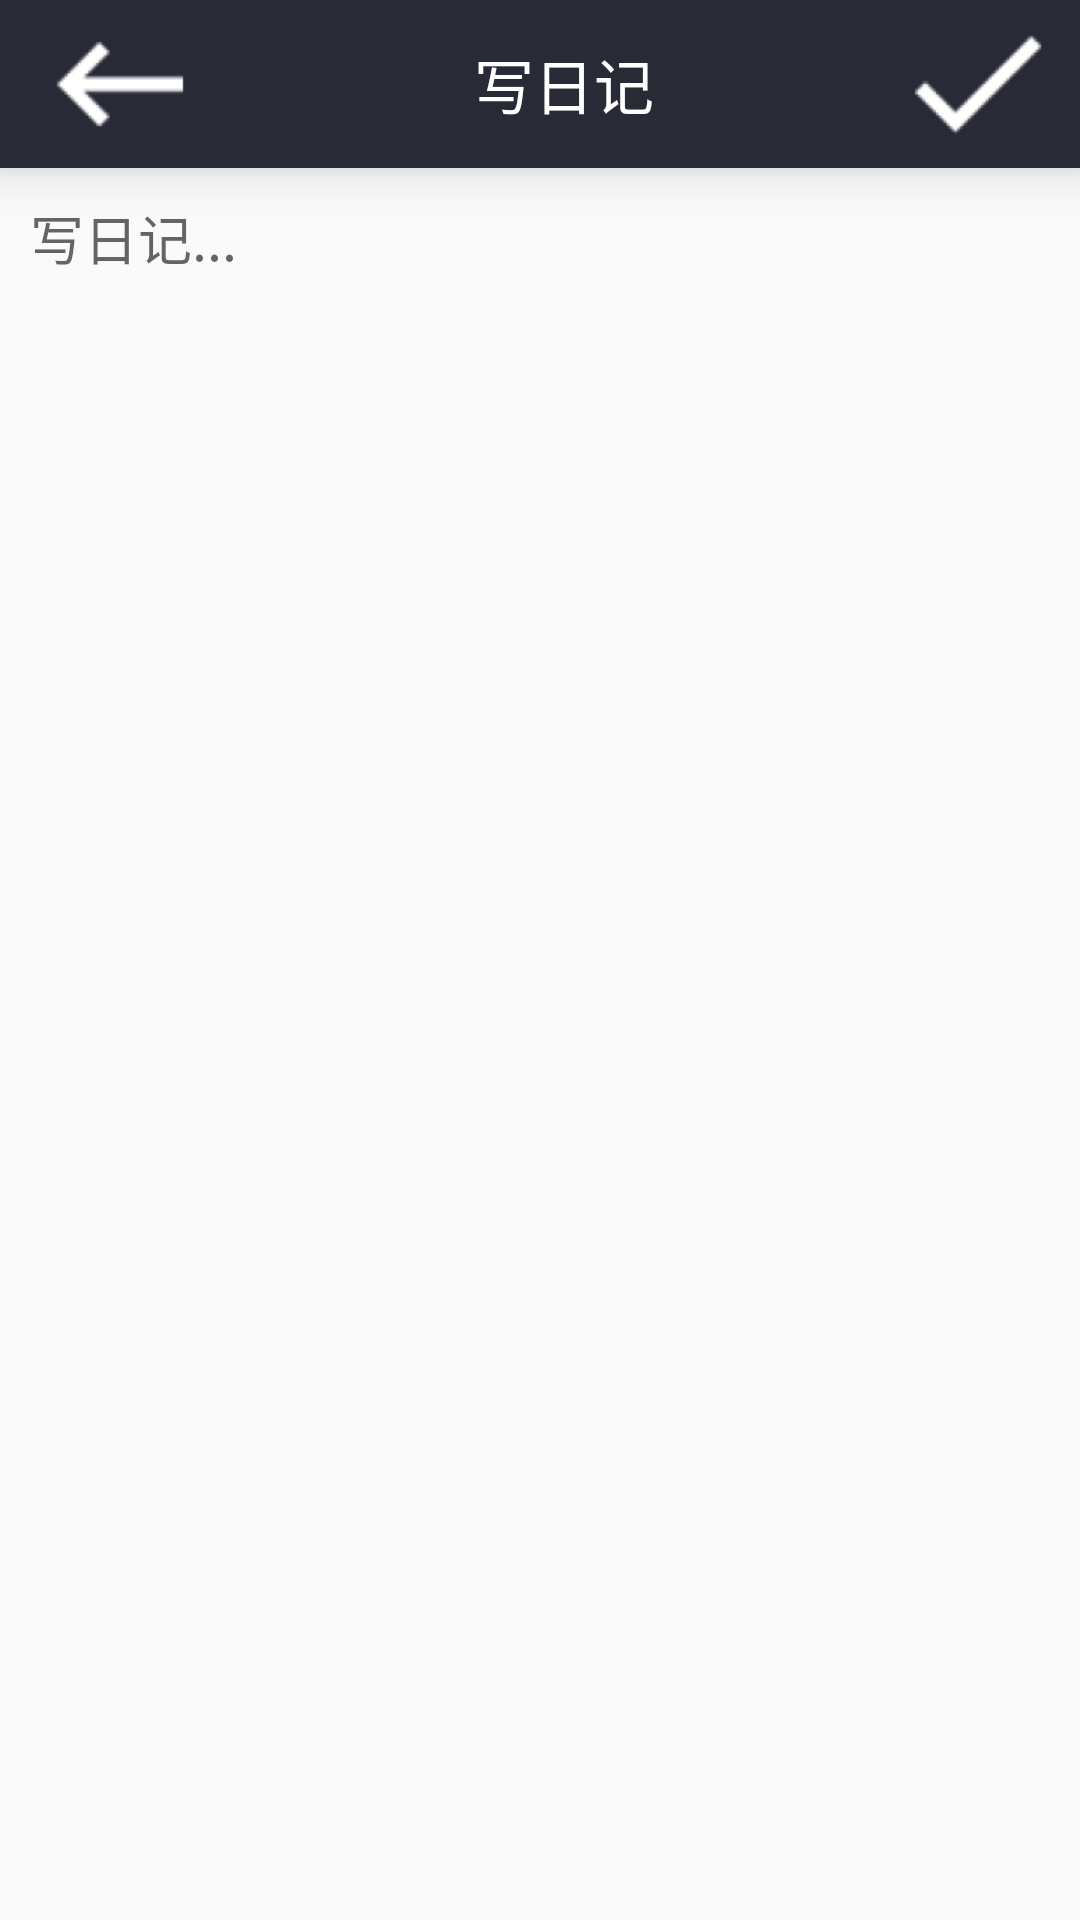

Where to tap for icons on this 1080x1920 app screen, as point (x, y):
back: point (120, 84)
done: point (978, 84)
